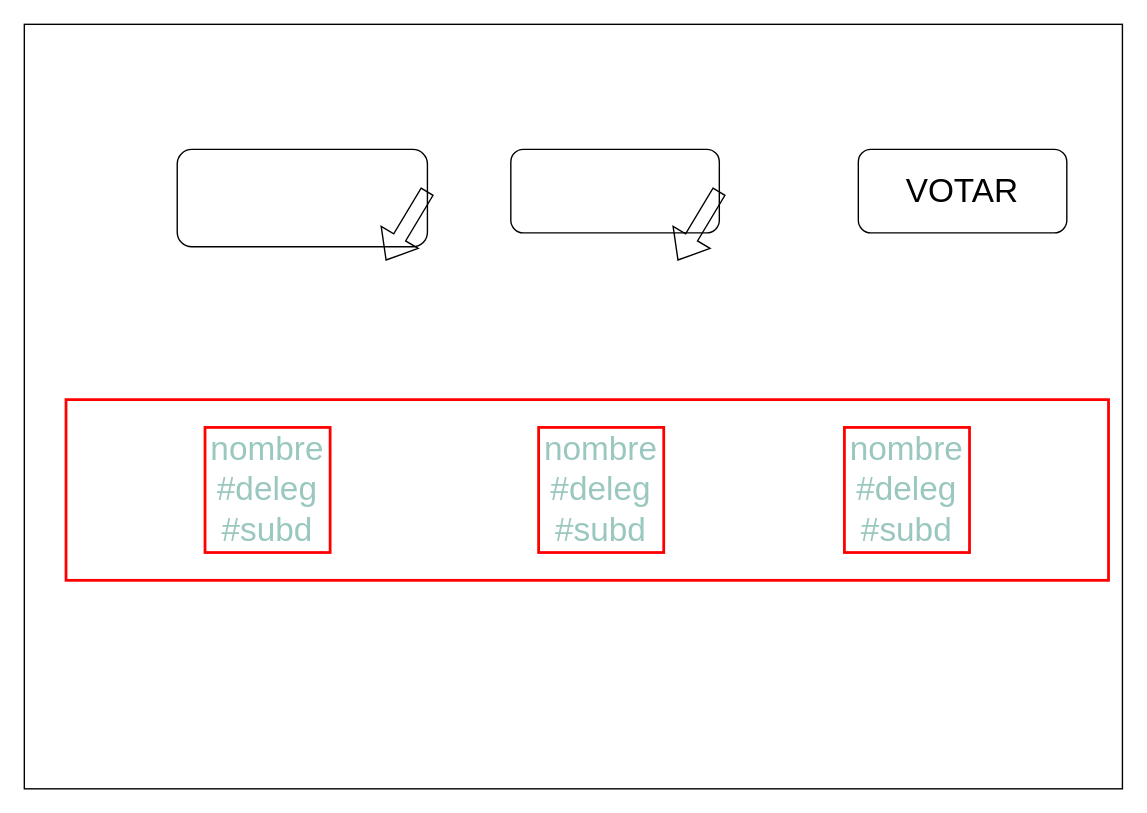
This 1147x813 diagram has some shape labels left out. The box of each missing label's shape, as (x1, y1, x2, y2) in pixels:
2 CARGOS: (509, 148, 719, 233)
3 CANDIDATOS: (176, 148, 427, 247)
